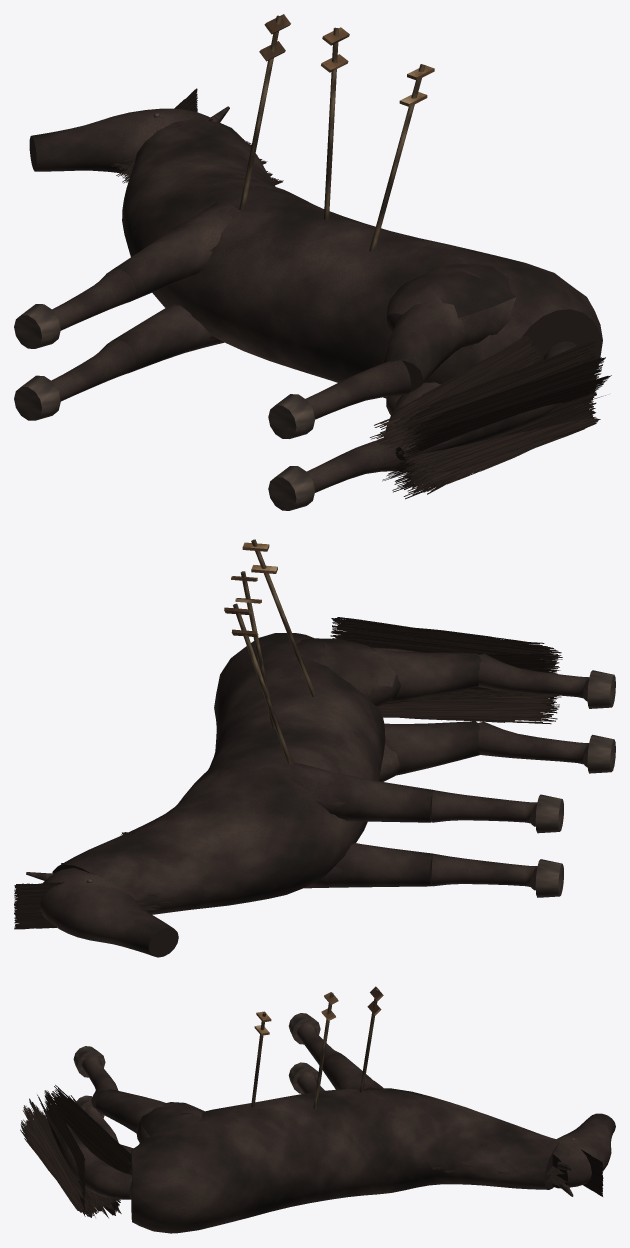
Rendered from cavallo_caduto.gltf.
The picture shows the model from 3 angles, top to bottom: view 1: azimuth 30°, elevation 25°; view 2: azimuth 150°, elevation 25°; view 3: azimuth 270°, elevation 25°; orthographic projection. The views are drawn at different scales.
Parts seen in each view (by area): view 1: cavallo_caduto; view 2: cavallo_caduto; view 3: cavallo_caduto.
Boxes of the visible parts, x1,y1,x2,y2 form: cavallo_caduto: (14, 14, 611, 510); cavallo_caduto: (14, 539, 615, 957); cavallo_caduto: (20, 986, 615, 1233).
Bounding box in the file's own units: 1.96 × 1.26 × 3.13.
5 materials, 5 textured.
